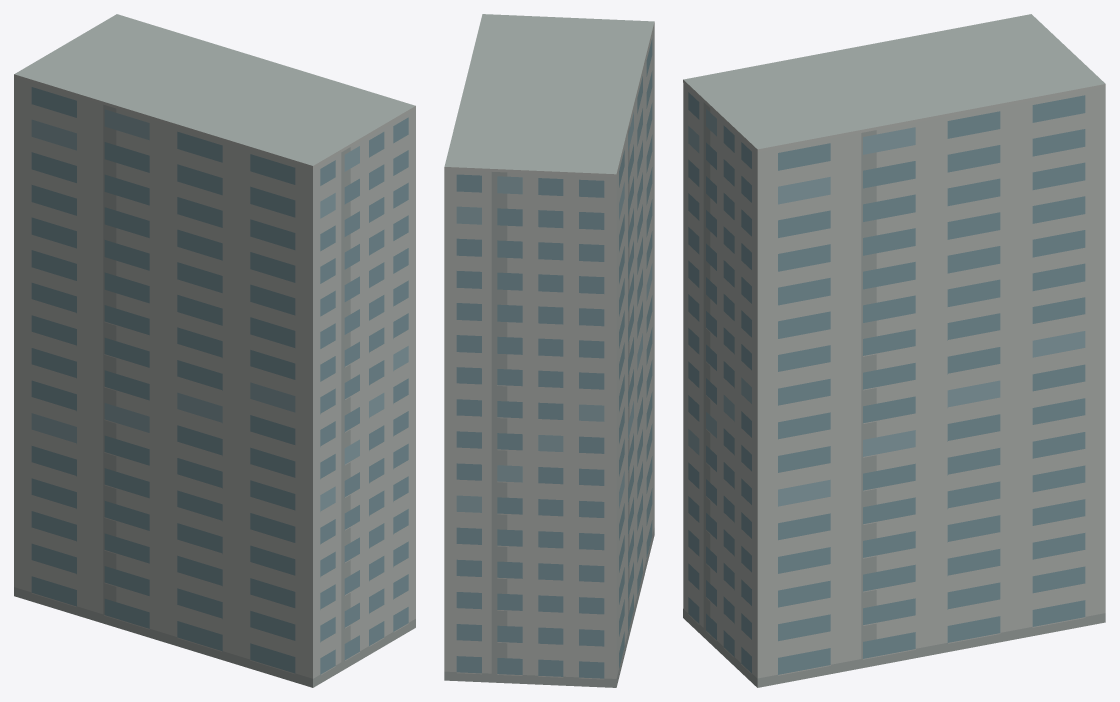
Rendered from residential-a8db4f5c-26c0-4ec8-b2da-ab9f218ac16a.glb.
The picture shows the model from 3 angles, left to right: view 1: azimuth 30°, elevation 25°; view 2: azimuth 150°, elevation 25°; view 3: azimuth 270°, elevation 25°; orthographic projection. The views are drawn at different scales.
Parts seen in each view (by area): view 1: residential-a8db4f5c-26c0-4ec8-b2da-ab9f218ac16a.tmp; view 2: residential-a8db4f5c-26c0-4ec8-b2da-ab9f218ac16a.tmp; view 3: residential-a8db4f5c-26c0-4ec8-b2da-ab9f218ac16a.tmp.
Boxes of the visible parts, x1,y1,x2,y2 form: residential-a8db4f5c-26c0-4ec8-b2da-ab9f218ac16a.tmp: (14,14,415,687); residential-a8db4f5c-26c0-4ec8-b2da-ab9f218ac16a.tmp: (444,14,654,687); residential-a8db4f5c-26c0-4ec8-b2da-ab9f218ac16a.tmp: (683,14,1105,687).
Bounding box in the file's own units: 23.2 × 43 × 30.59.
